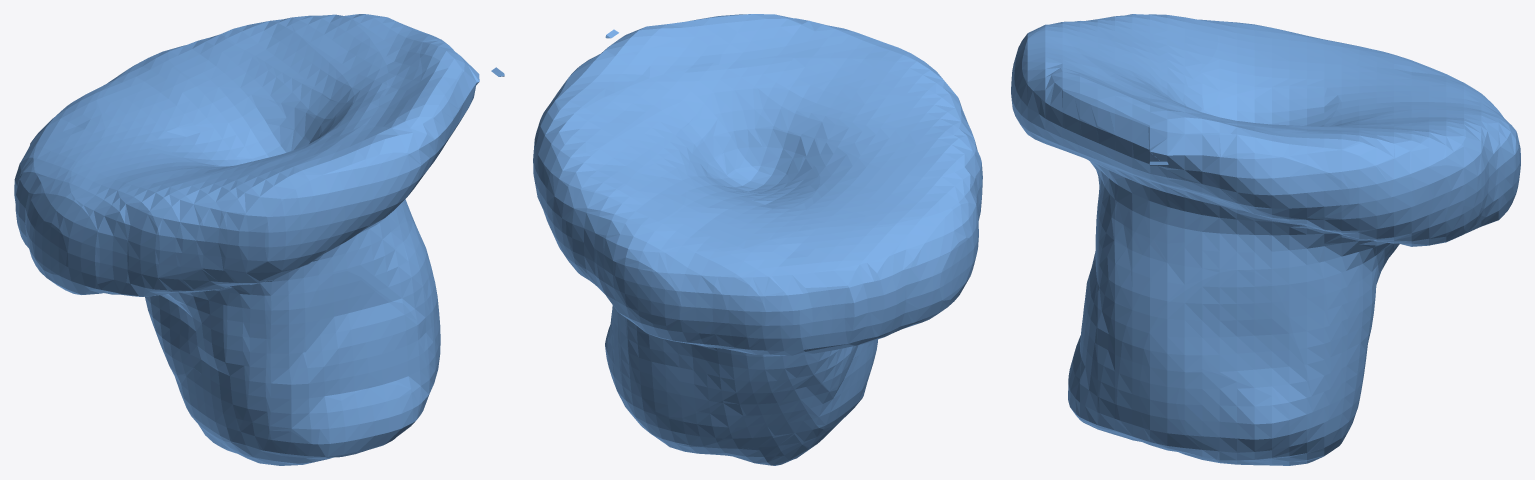
The model's file is water_0011.glb.
3 renders of one model, left to right at view 1: azimuth 30°, elevation 25°; view 2: azimuth 150°, elevation 25°; view 3: azimuth 270°, elevation 25°, orthographic. The views are drawn at different scales.
Visible parts, largest first — view 1: Water_0011; view 2: Water_0011; view 3: Water_0011.
Part boxes in pixels (left/top/right/bottom): Water_0011: left=14, top=14, right=504, bottom=465; Water_0011: left=533, top=14, right=982, bottom=465; Water_0011: left=1011, top=14, right=1520, bottom=465.
Bounding box in the file's own units: 1.7 × 1.51 × 1.71.
